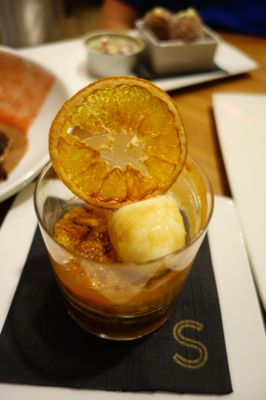pasta: (107, 193, 188, 264)
sushi: (33, 74, 215, 344), (84, 33, 146, 79)
